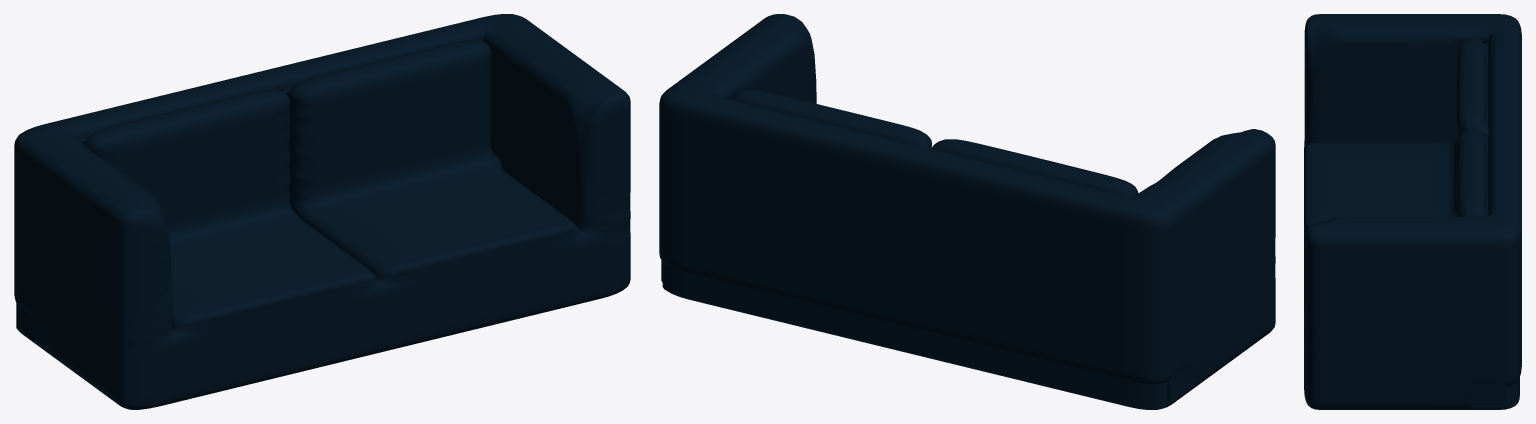
Rendered from Couch.fbx.
The picture shows the model from 3 angles, left to right: view 1: azimuth 30°, elevation 25°; view 2: azimuth 150°, elevation 25°; view 3: azimuth 270°, elevation 25°; orthographic projection. The views are drawn at different scales.
Visible parts, largest first — view 1: Box013; view 2: Box013; view 3: Box013.
Boxes of the visible parts, x1=… form: Box013: x1=14, y1=14, x2=630, y2=409; Box013: x1=659, y1=14, x2=1275, y2=409; Box013: x1=1304, y1=14, x2=1521, y2=409.
Bounding box in the file's own units: 82.17 × 31.07 × 33.62.
